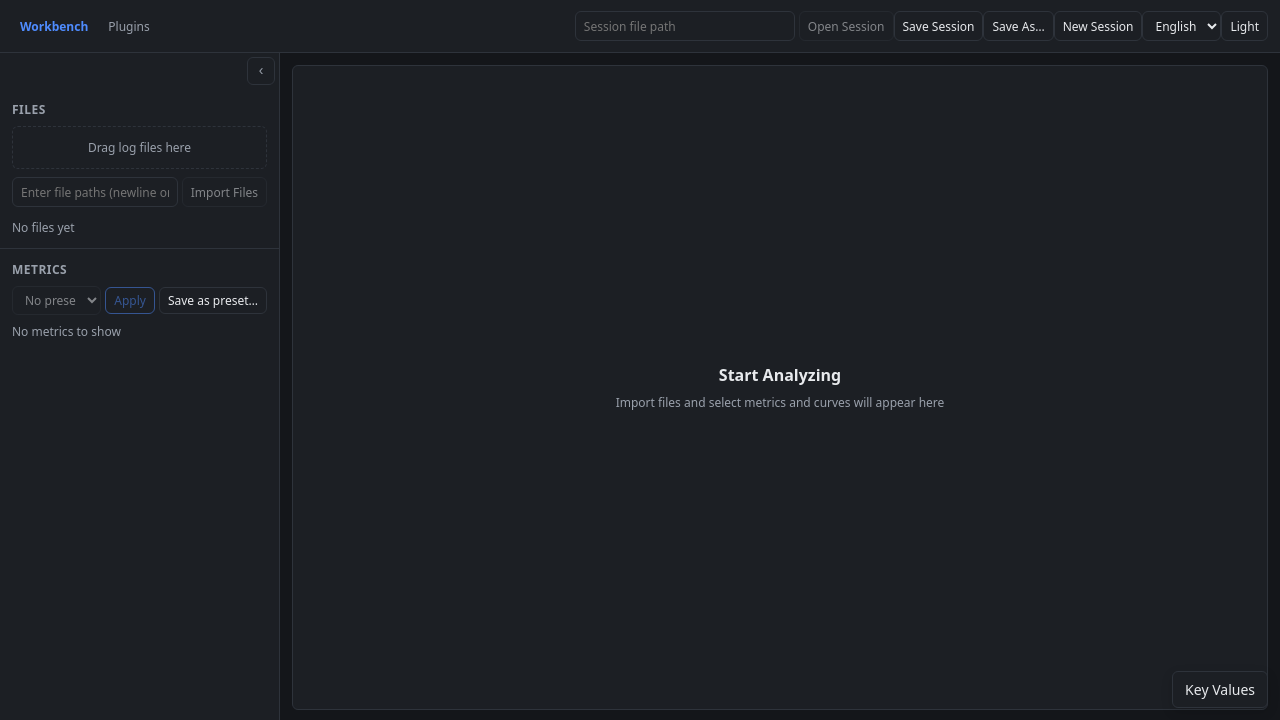
Test: AppShell P2-04: collapsible/draggable sidebars + narrow-window key-values drawer › below 1000px the key-values panel moves into a floating drawer toggled by a button
This screenshot has width=1280, height=720.
Click the button with test id "kv-drawer-toggle" at {"x": 1220, "y": 690}, box [1172,671,1268,708]
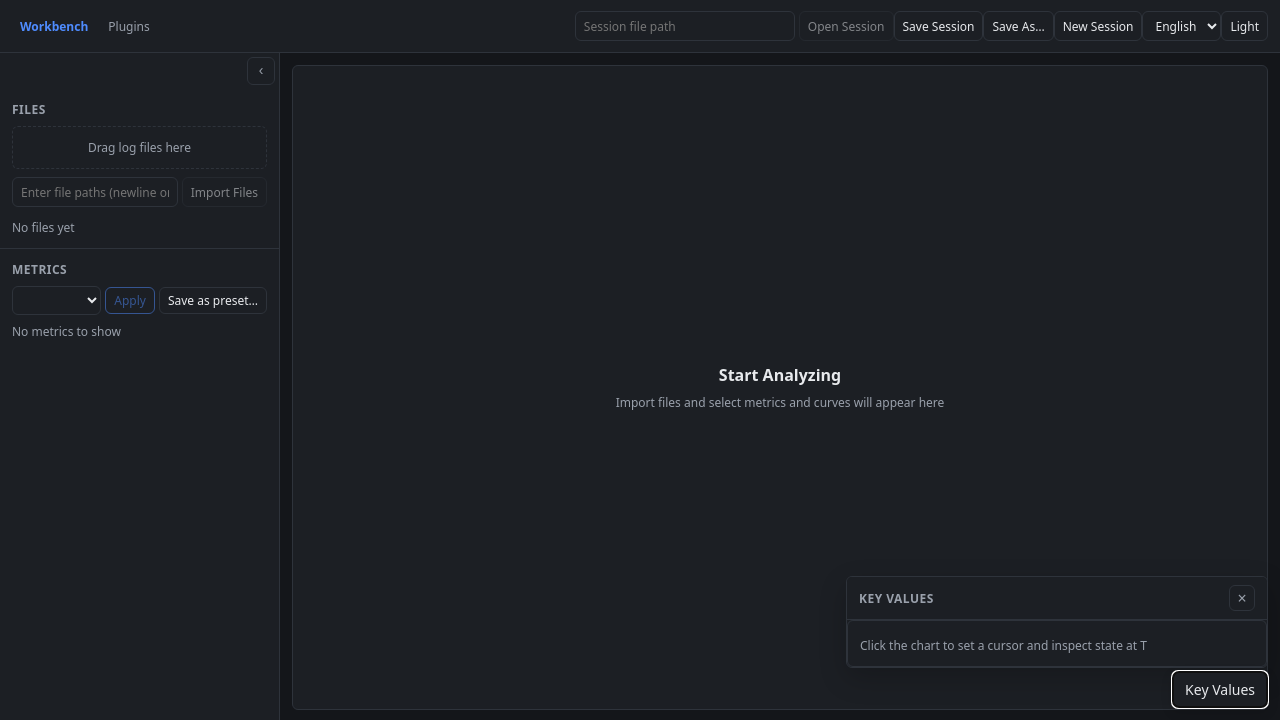
Expected: the element with test id "kv-drawer" is shown, [846,576,1268,668]
Expected: the element with test id "keyvalues-panel" is shown, [847,620,1267,667]
Click the button with test id "kv-drawer-close" at {"x": 1242, "y": 598}, box [1229,585,1255,611]
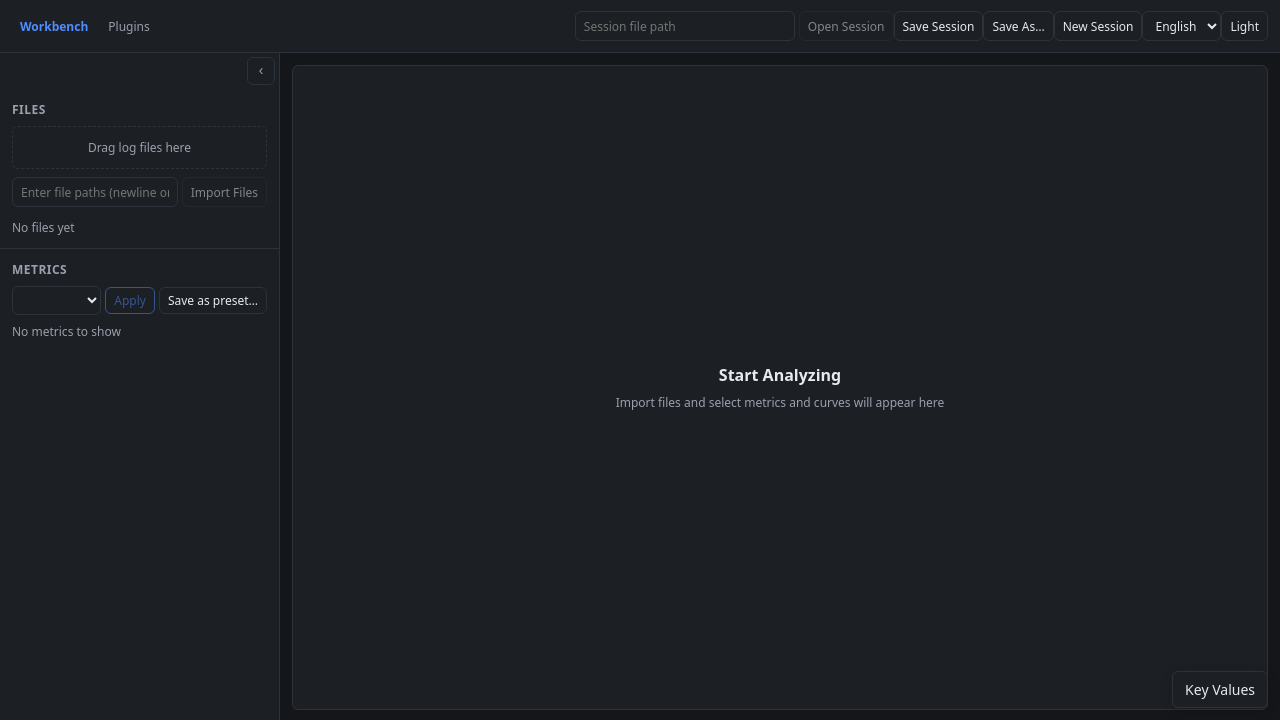
Expected: the element with test id "kv-drawer" is gone
